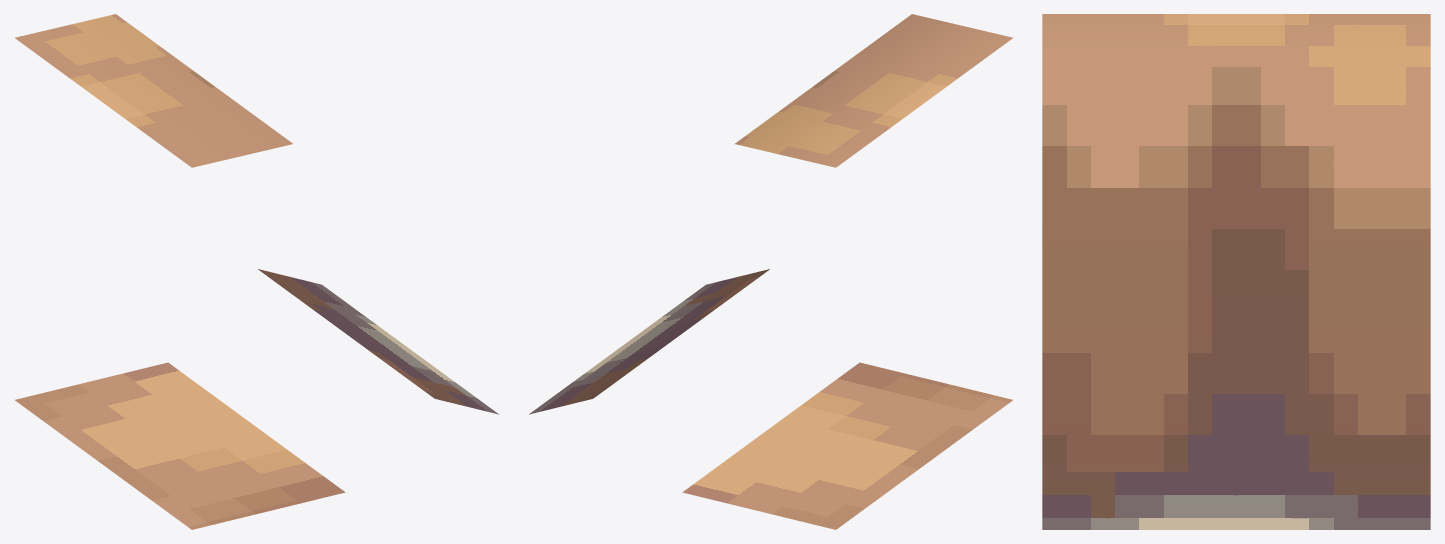
3 renders of one model, left to right at view 1: azimuth 30°, elevation 25°; view 2: azimuth 150°, elevation 25°; view 3: azimuth 270°, elevation 25°, orthographic. The views are drawn at different scales.
Size of the model in its own units: 1 by 1.12 by 1.
Materials: 3 (3 with a texture image).
